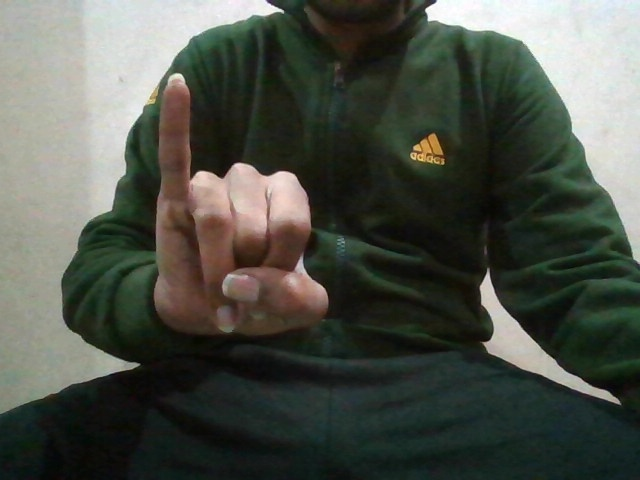I: (151, 72, 348, 346)
